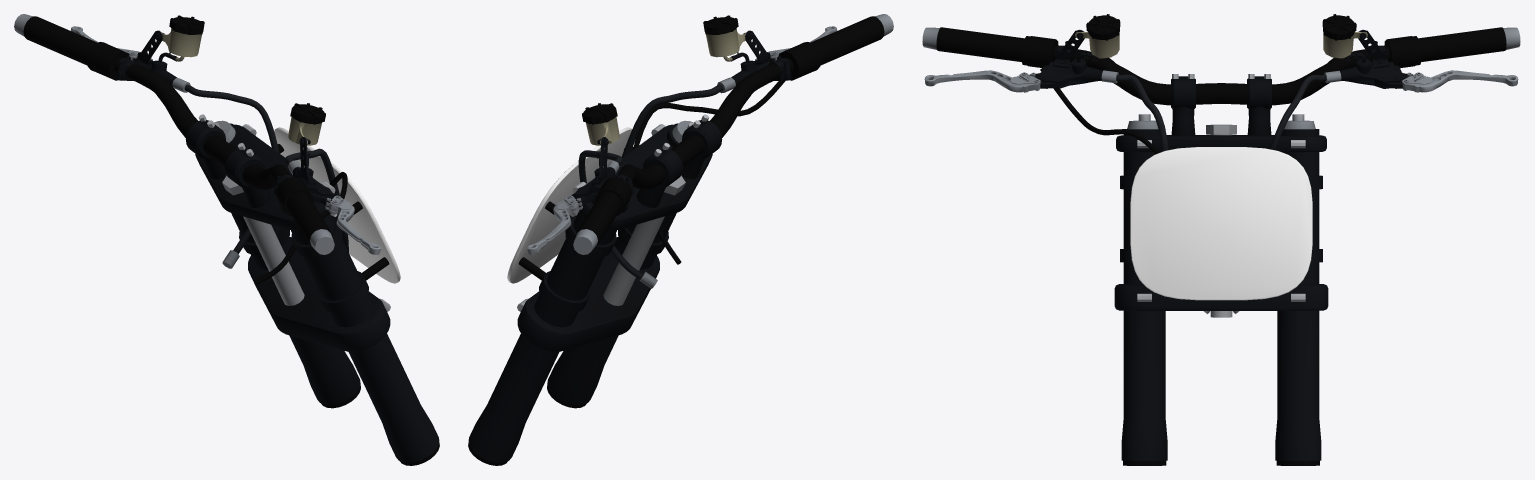
Rendered from bike_duetto_front.glb.
3 renders of one model, left to right at view 1: azimuth 30°, elevation 25°; view 2: azimuth 150°, elevation 25°; view 3: azimuth 270°, elevation 25°, orthographic. The views are drawn at different scales.
Parts seen in each view (by area): view 1: bk_forkO1, bk_clampL, bk_forkO-1, bk_numplate, bk_handlebar, bk_clampU, bk_stem, bk_grip-1, bk_ctl-1, bk_grip1, bk_ctl1, bk_clutchline_a (+14 smaller); view 2: bk_forkO-1, bk_clampL, bk_forkO1, bk_numplate, bk_handlebar, bk_clampU, bk_stem, bk_grip1, bk_ctl1, bk_grip-1, bk_throttle_a, bk_ctl-1 (+14 smaller); view 3: bk_numplate, bk_forkO-1, bk_forkO1, bk_handlebar, bk_clampL, bk_clampU, bk_grip1, bk_grip-1, bk_ctl-1, bk_ctl1, bk_ctl1_lever, bk_ctl-1_lever (+13 smaller).
Boxes of the visible parts, x1,y1,x2,y2 form: bk_forkO1: [277, 200, 439, 462]; bk_clampL: [248, 237, 390, 351]; bk_forkO-1: [229, 123, 360, 405]; bk_numplate: [274, 127, 400, 283]; bk_handlebar: [114, 57, 290, 189]; bk_clampU: [195, 124, 326, 230]; bk_stem: [243, 216, 304, 305]; bk_grip-1: [23, 16, 97, 65]; bk_ctl-1: [116, 30, 177, 86]; bk_grip1: [286, 192, 333, 249]; bk_ctl1: [273, 137, 336, 207]; bk_clutchline_a: [184, 84, 279, 253]; bk_forkO-1: [468, 200, 630, 462]; bk_clampL: [517, 237, 659, 351]; bk_forkO1: [547, 123, 678, 405]; bk_numplate: [507, 127, 632, 283]; bk_handlebar: [617, 57, 793, 189]; bk_clampU: [579, 124, 712, 230]; bk_stem: [603, 216, 664, 305]; bk_grip1: [810, 16, 884, 65]; bk_ctl1: [730, 30, 791, 85]; bk_grip-1: [574, 192, 621, 249]; bk_throttle_a: [633, 80, 785, 264]; bk_ctl-1: [571, 137, 634, 207]; bk_numplate: [1130, 147, 1312, 300]; bk_forkO-1: [1275, 129, 1321, 460]; bk_forkO1: [1121, 129, 1167, 460]; bk_handlebar: [1052, 46, 1390, 105]; bk_clampL: [1114, 284, 1328, 310]; bk_clampU: [1116, 135, 1326, 152]; bk_grip1: [936, 27, 1024, 61]; bk_grip-1: [1418, 27, 1506, 61]; bk_ctl-1: [1339, 29, 1412, 88]; bk_ctl1: [1030, 29, 1102, 88]; bk_ctl1_lever: [924, 70, 1047, 92]; bk_ctl-1_lever: [1395, 70, 1518, 92].
Bounding box in the file's own units: 0.3582 × 0.5886 × 0.8173.
